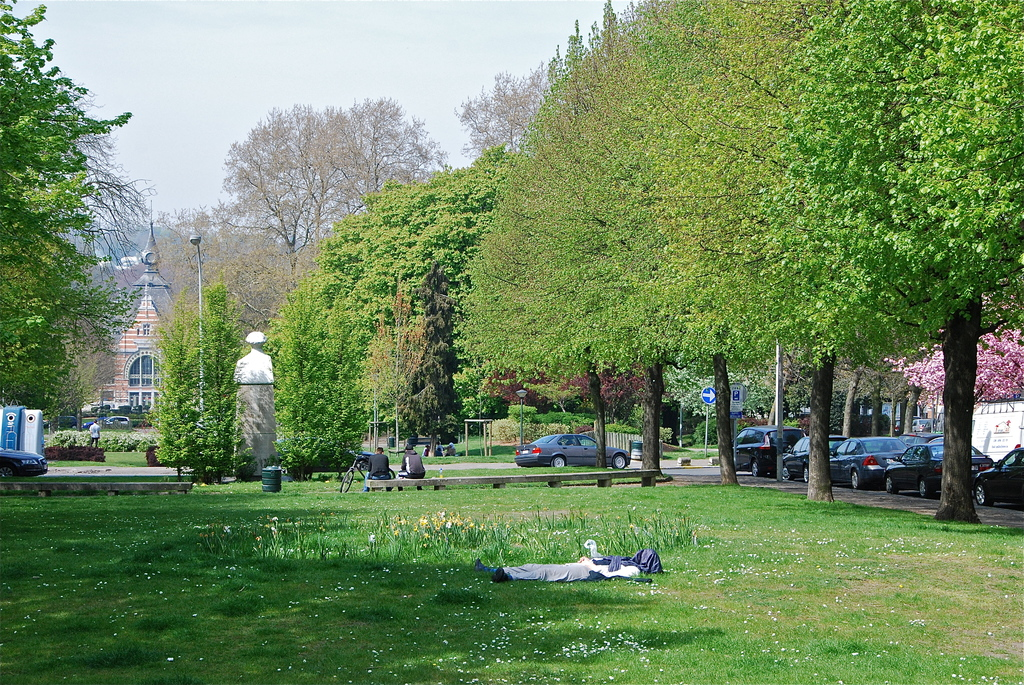Car: (732, 414, 1023, 511), (510, 429, 629, 482), (0, 448, 46, 477)
